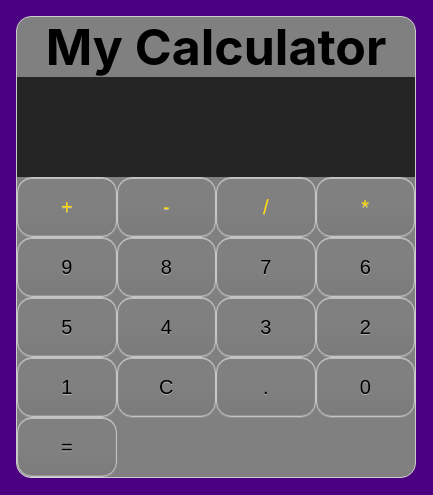
Test: should display 4 when the user enter 2+2
Click the button "2" at (365, 327), box [316, 297, 415, 357]
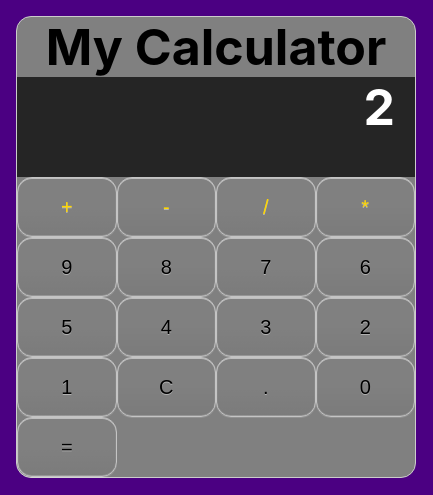
Click the button "+" at (67, 207), box [17, 177, 116, 237]
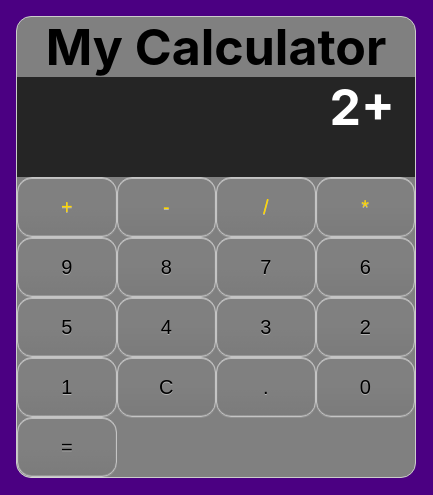
Click the button "2" at (365, 327), box [316, 297, 415, 357]
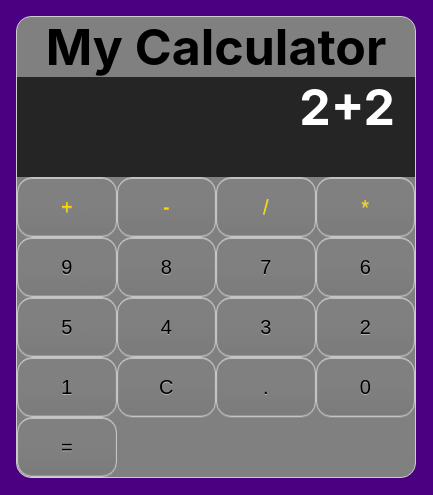
Click the button "=" at (67, 447), box [17, 417, 116, 477]
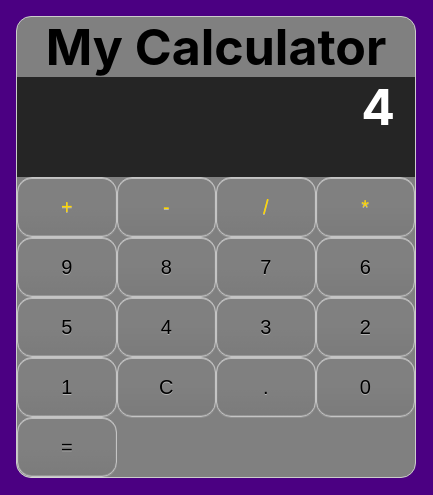
Now the heading with test id "display" reads "4", box [361, 77, 395, 137]
